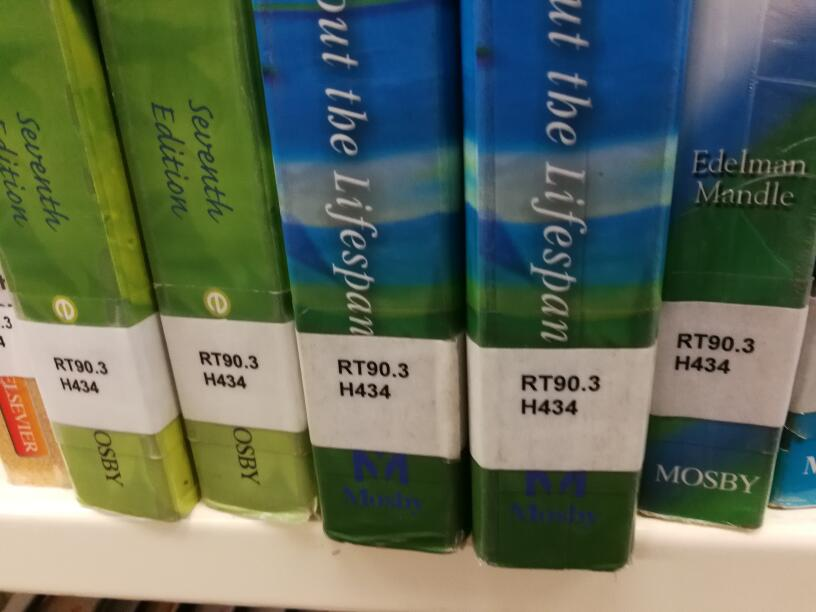booklabel: (669, 329, 759, 377), (516, 370, 604, 418), (335, 356, 412, 401), (194, 348, 264, 391), (49, 352, 113, 397)
